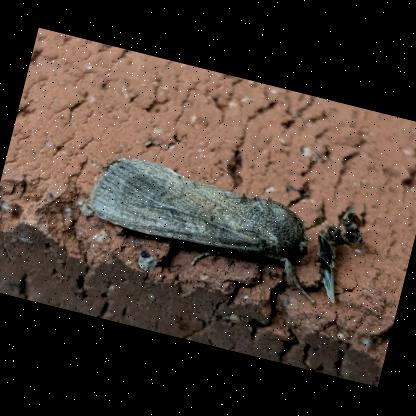Fall Armyworm Moth: (73, 147, 340, 306)
